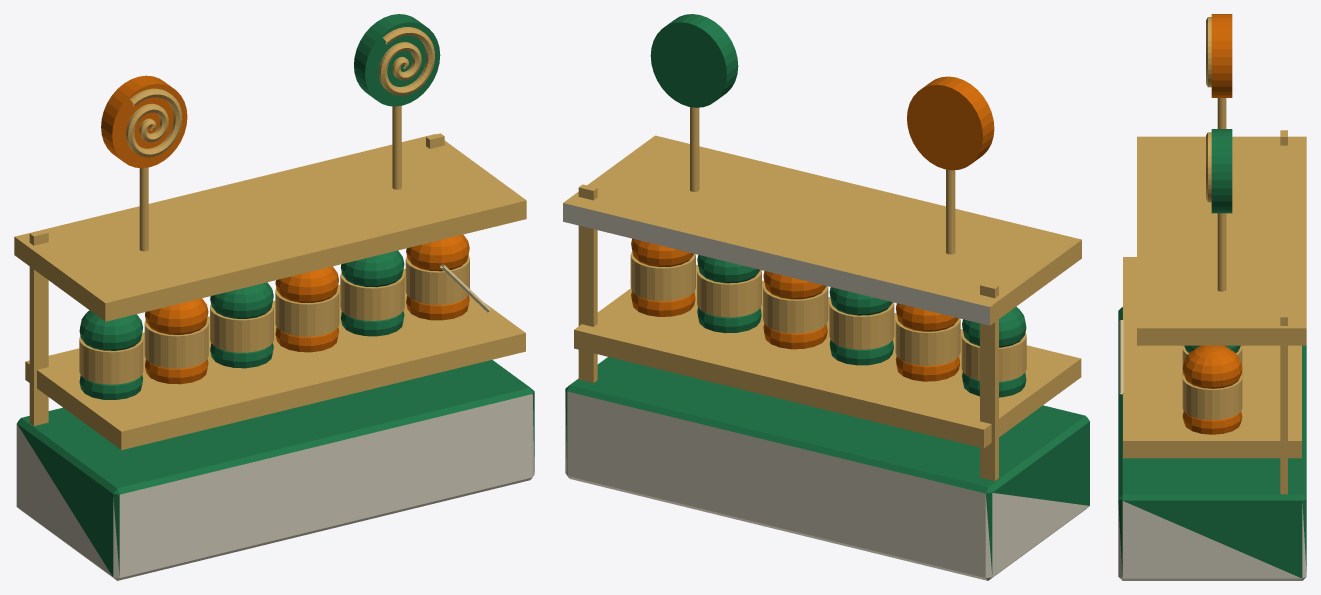
File: mall_r5_sweets_large.fbx
The picture shows the model from 3 angles, left to right: view 1: azimuth 30°, elevation 25°; view 2: azimuth 150°, elevation 25°; view 3: azimuth 270°, elevation 25°; orthographic projection. The views are drawn at different scales.
Visible parts, largest first — view 1: Part_1, Part_0, Part_-1, Part_2, Part_3; view 2: Part_0, Part_-1, Part_1, Part_2, Part_3, Part_4; view 3: Part_1, Part_3, Part_2, Part_-1, Part_0.
Part boxes in pixels (left/top/right/bottom): Part_1: left=118, top=133, right=534, bottom=491; Part_0: left=14, top=230, right=523, bottom=576; Part_-1: left=16, top=394, right=534, bottom=580; Part_2: left=15, top=75, right=524, bottom=321; Part_3: left=106, top=14, right=526, bottom=302; Part_0: left=570, top=240, right=1089, bottom=574; Part_-1: left=565, top=391, right=1089, bottom=580; Part_1: left=565, top=184, right=1084, bottom=485; Part_2: left=564, top=76, right=1081, bottom=306; Part_3: left=563, top=14, right=1081, bottom=239; Part_4: left=563, top=203, right=989, bottom=325; Part_1: left=1118, top=257, right=1306, bottom=578; Part_3: left=1137, top=129, right=1306, bottom=328; Part_2: left=1137, top=14, right=1306, bottom=327; Part_-1: left=1118, top=501, right=1306, bottom=580; Part_0: left=1118, top=130, right=1306, bottom=494.
Size of the model in its own units: 5.1 by 5.11 by 2.12.
